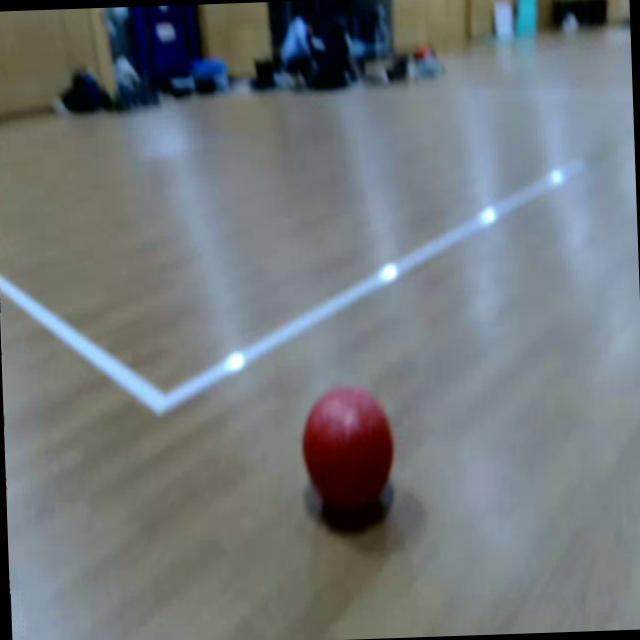red_ball: (300, 384, 395, 507)
